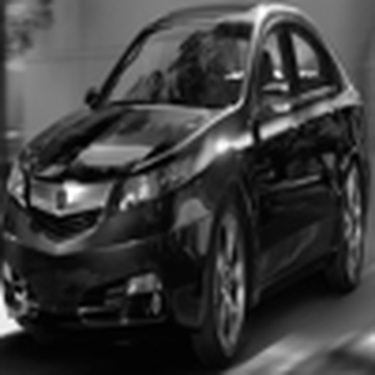car: (5, 3, 371, 371)
